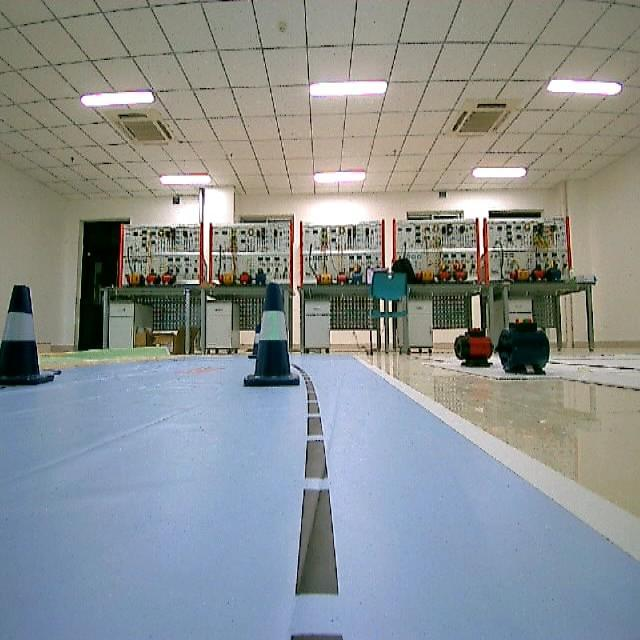obstacle: (242, 280, 301, 390), (0, 283, 59, 393)
